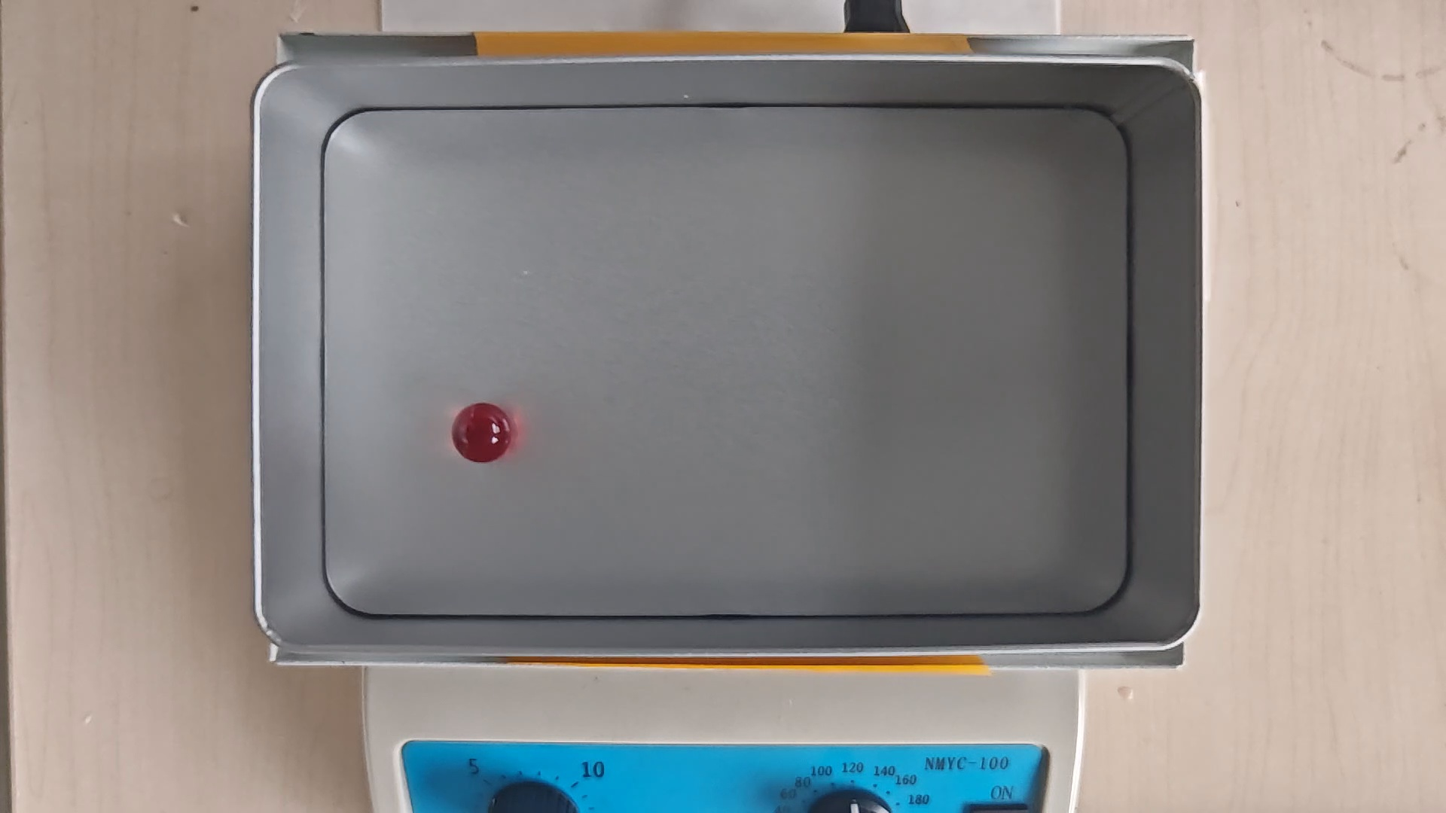ball: (453, 403, 513, 464)
container: (323, 108, 1131, 616)
